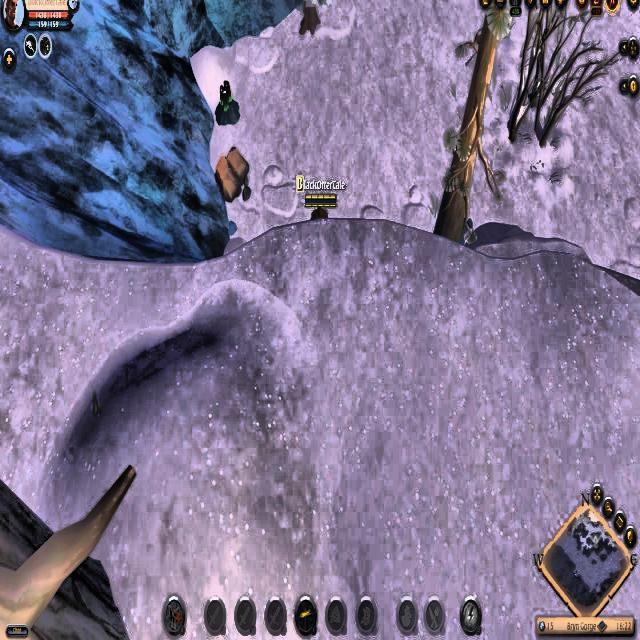limestone: (211, 144, 253, 203)
tinore: (212, 72, 242, 126)
